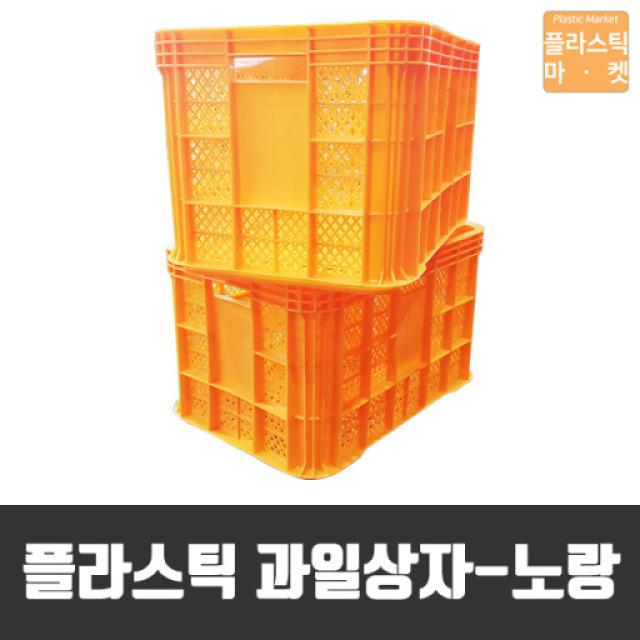basket: (154, 210, 518, 500), (141, 3, 481, 290)
